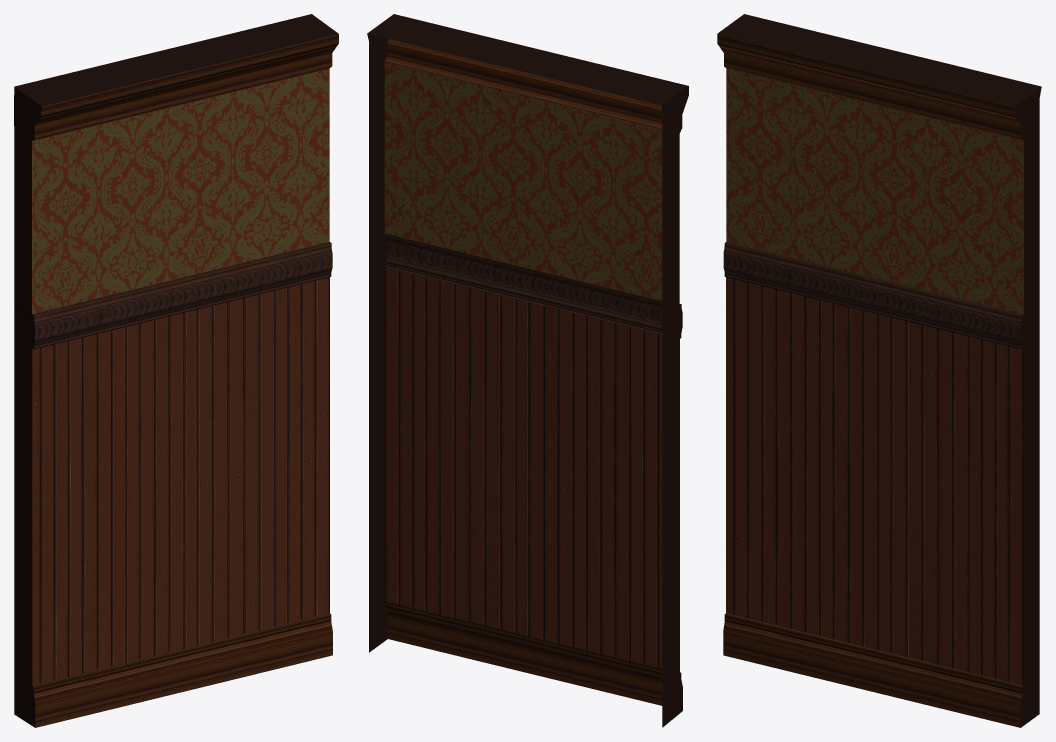
File: Wall2Short.fbx
3 renders of one model, left to right at view 1: azimuth 30°, elevation 25°; view 2: azimuth 150°, elevation 25°; view 3: azimuth 330°, elevation 25°, orthographic.
Visible parts, largest first — view 1: WallSection2Med.001; view 2: WallSection2Med.001; view 3: WallSection2Med.001.
Boxes of the visible parts, <box> form: WallSection2Med.001: <box>14,14,338,727</box>; WallSection2Med.001: <box>367,14,688,727</box>; WallSection2Med.001: <box>717,14,1041,727</box>.
Size of the model in its own units: 185 by 372 by 29.11.
